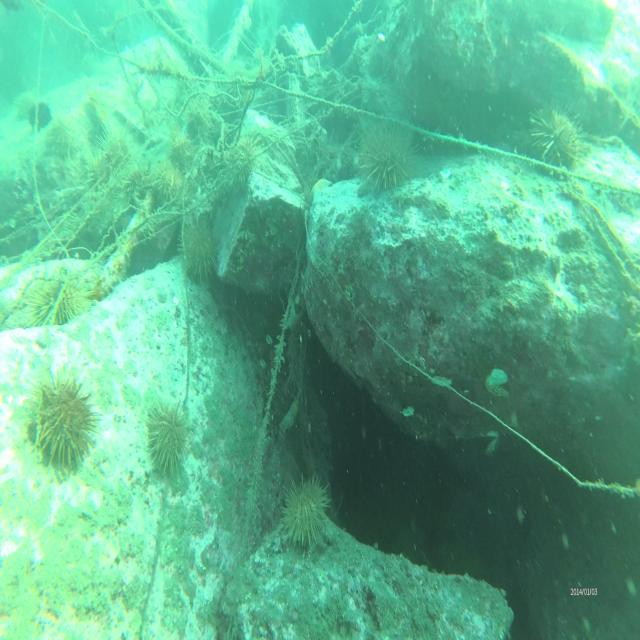echinus: (32, 374, 102, 480), (525, 99, 593, 182), (355, 114, 417, 194), (143, 393, 198, 483), (279, 473, 332, 552), (178, 203, 218, 282), (98, 117, 134, 173), (226, 135, 257, 193), (186, 89, 218, 145), (10, 85, 43, 129), (46, 120, 80, 162), (156, 158, 186, 201), (166, 127, 194, 171), (89, 156, 113, 187)
